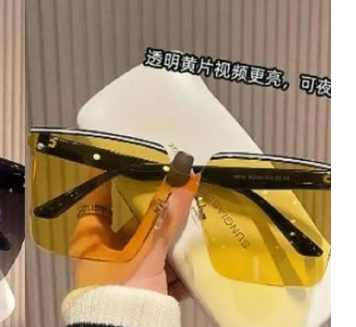glass: (21, 123, 333, 286)
